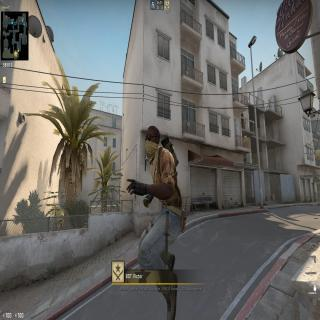T-Head: (142, 122, 162, 165)
